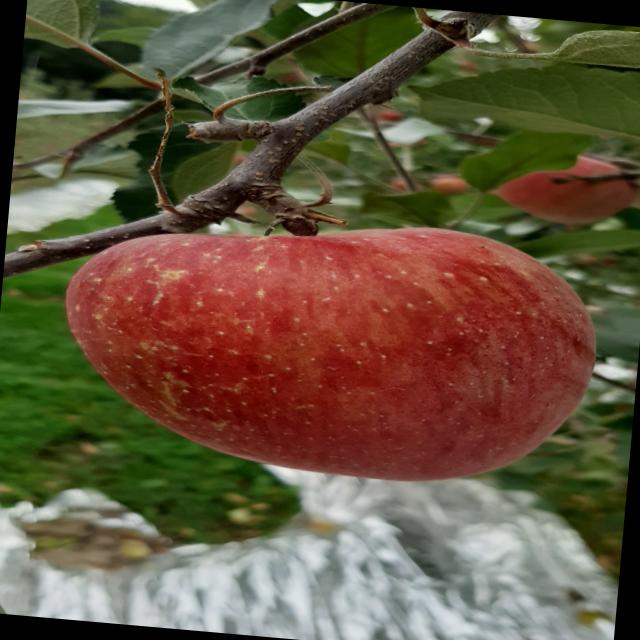fresh: (30, 188, 631, 508)
